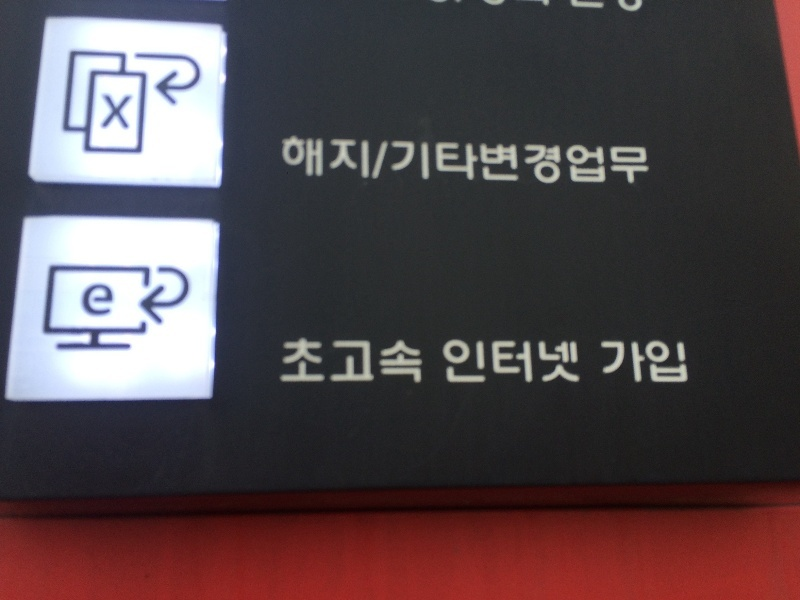text: (289, 131, 304, 190), (305, 131, 320, 190), (321, 131, 336, 190), (337, 131, 352, 190), (353, 131, 368, 190), (369, 131, 384, 190), (385, 131, 400, 190), (401, 131, 416, 190), (417, 131, 432, 190), (433, 131, 448, 190), (449, 131, 464, 190), (465, 131, 480, 190), (481, 131, 496, 190), (497, 131, 512, 190), (513, 131, 528, 190), (529, 131, 544, 190), (545, 131, 560, 190), (561, 131, 576, 190), (577, 131, 592, 190), (593, 131, 608, 190), (609, 131, 624, 190), (625, 131, 640, 190), (289, 335, 304, 389), (305, 335, 320, 389), (321, 335, 336, 389), (337, 335, 352, 389), (353, 335, 368, 389), (369, 335, 384, 389), (385, 335, 400, 389), (401, 335, 416, 389), (449, 336, 464, 390), (465, 336, 480, 390), (481, 336, 496, 390), (497, 336, 512, 390), (513, 336, 528, 390), (529, 336, 544, 390), (545, 336, 560, 390), (561, 336, 576, 390), (609, 336, 624, 390), (625, 336, 640, 390), (641, 336, 656, 390), (657, 336, 672, 390), (673, 336, 688, 390), (277, 335, 288, 389), (641, 131, 651, 190), (113, 93, 128, 132), (97, 283, 112, 321), (417, 335, 427, 389), (598, 336, 608, 390), (82, 283, 96, 321), (100, 93, 112, 132), (440, 336, 448, 390), (281, 131, 288, 190), (577, 336, 583, 390), (129, 93, 134, 132), (689, 336, 692, 390), (113, 283, 115, 321)
